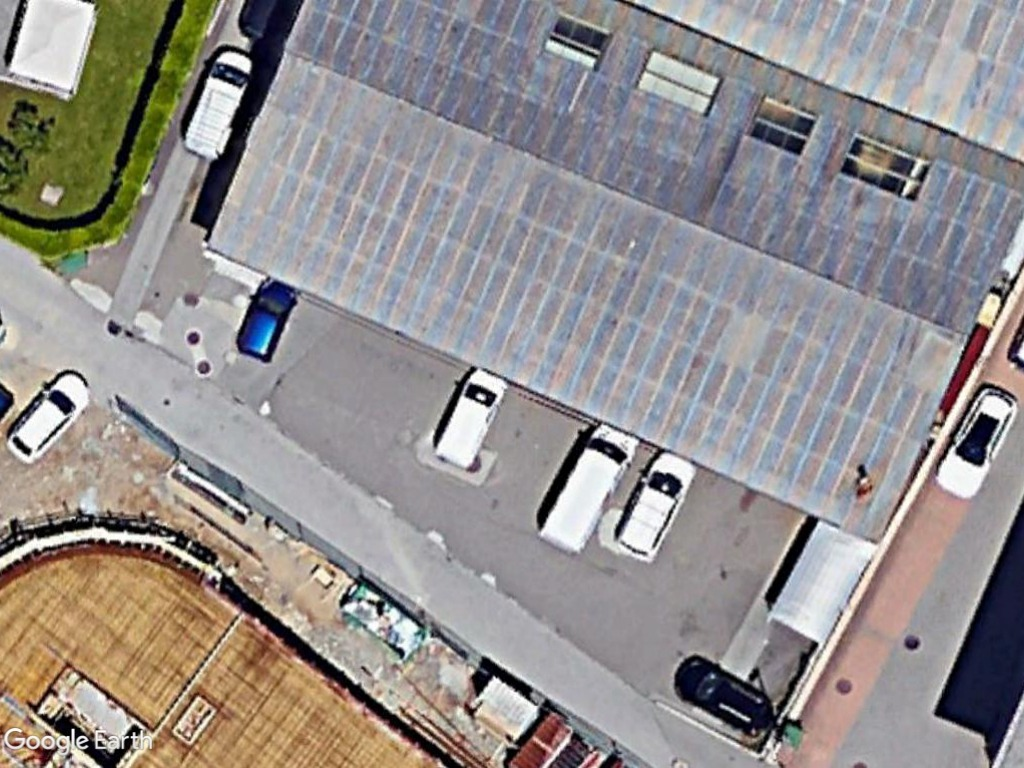car: (928, 380, 1020, 496), (675, 651, 777, 739), (615, 455, 697, 562), (5, 364, 92, 463), (234, 272, 299, 367)
van: (530, 428, 643, 560), (175, 43, 261, 164), (428, 371, 517, 475)
